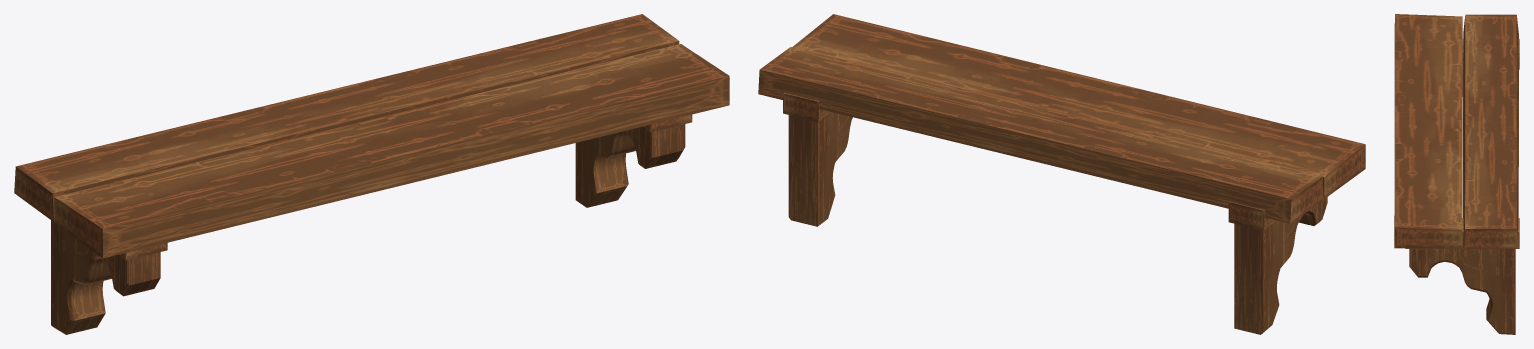
File: Shelf_Simple.gltf
The picture shows the model from 3 angles, left to right: view 1: azimuth 30°, elevation 25°; view 2: azimuth 150°, elevation 25°; view 3: azimuth 270°, elevation 25°; orthographic projection. The views are drawn at different scales.
Parts seen in each view (by area): view 1: Shelf_Simple; view 2: Shelf_Simple; view 3: Shelf_Simple.
Boxes of the visible parts, bbox=[...] form: Shelf_Simple: bbox=[14, 14, 729, 334]; Shelf_Simple: bbox=[758, 14, 1365, 334]; Shelf_Simple: bbox=[1394, 14, 1519, 334].
Size of the model in its own units: 1.18 by 0.3087 by 0.2923.
Materials: 1 (1 with a texture image).
